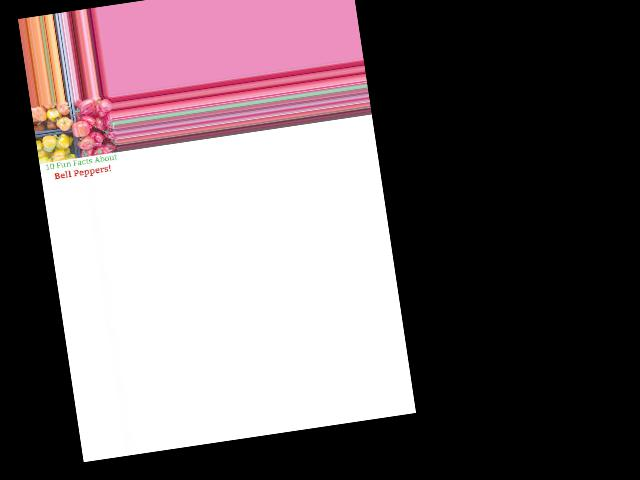bell_pepper: (88, 141, 111, 158)
